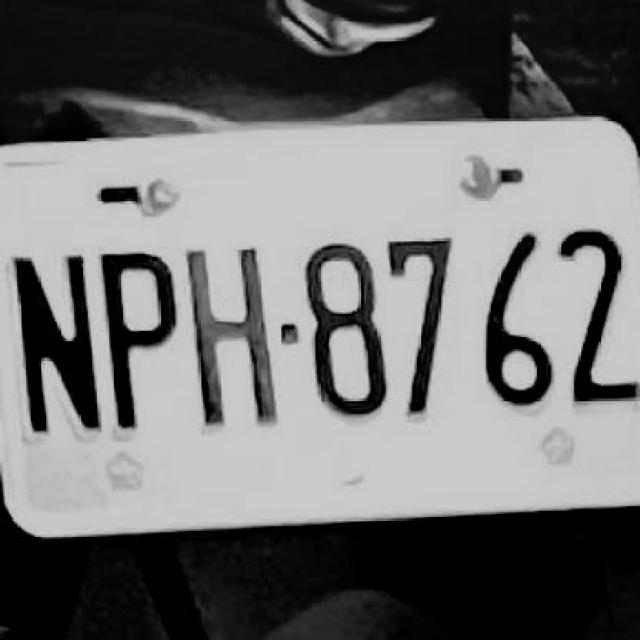-: (274, 319, 298, 343)
6: (472, 226, 556, 412)
7: (385, 231, 457, 415)
8: (302, 235, 389, 420)
H: (187, 237, 276, 428)
N: (8, 246, 103, 432)
P: (98, 246, 182, 426)
Z: (555, 222, 637, 404)
